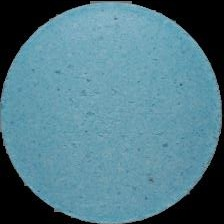0615-3512: (0, 0, 224, 224)
